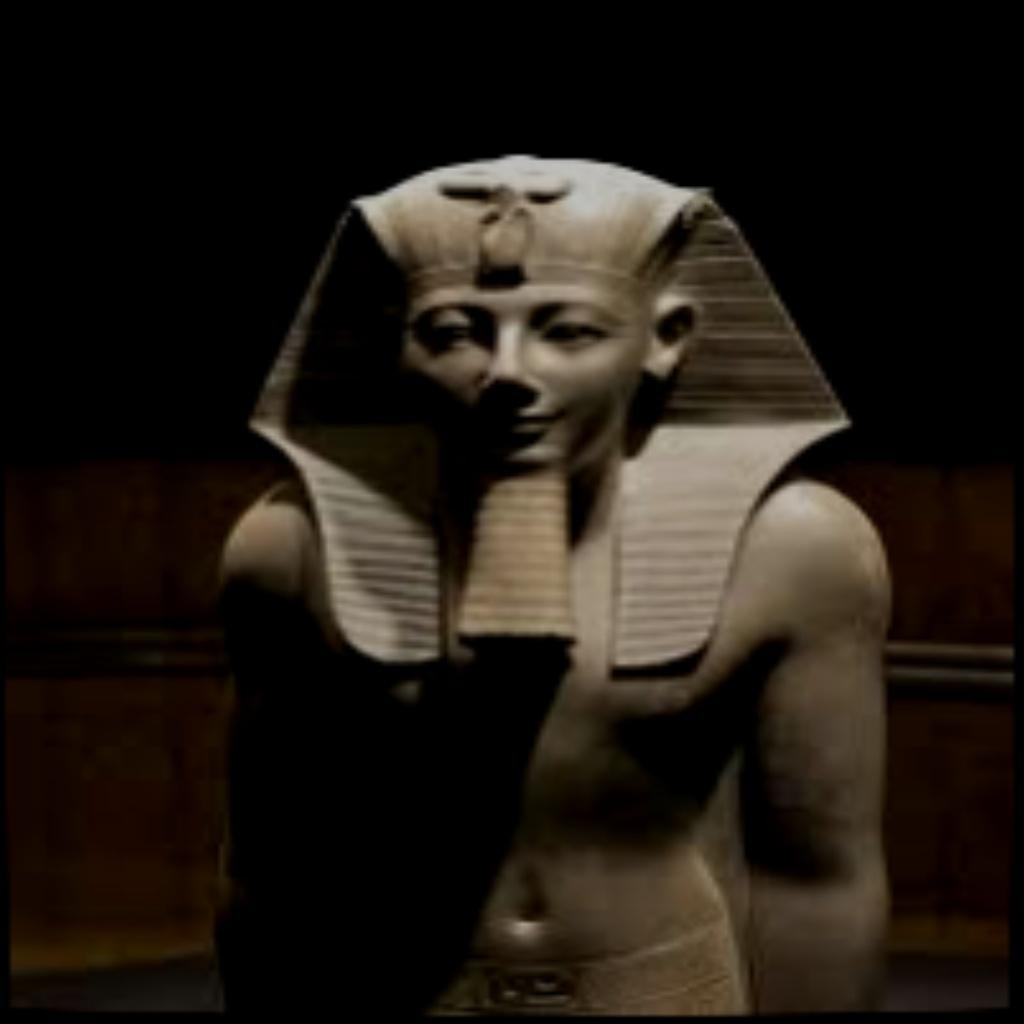King Thutmose III: (198, 147, 902, 1012)
